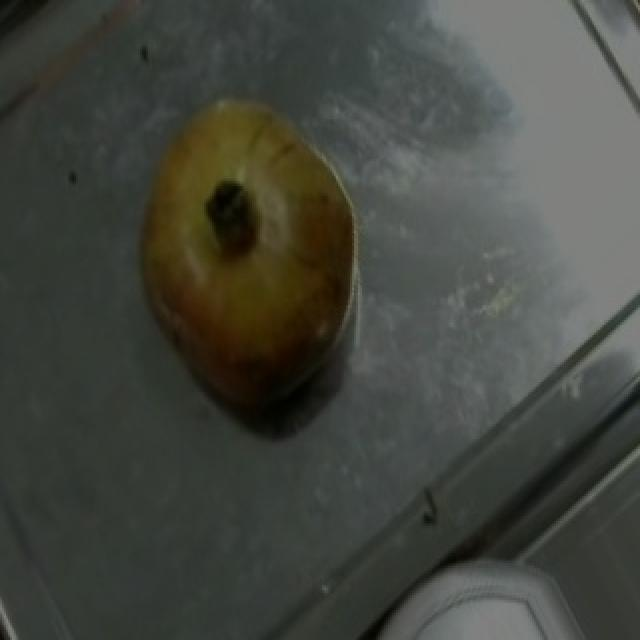fruit: (122, 189, 362, 439)
